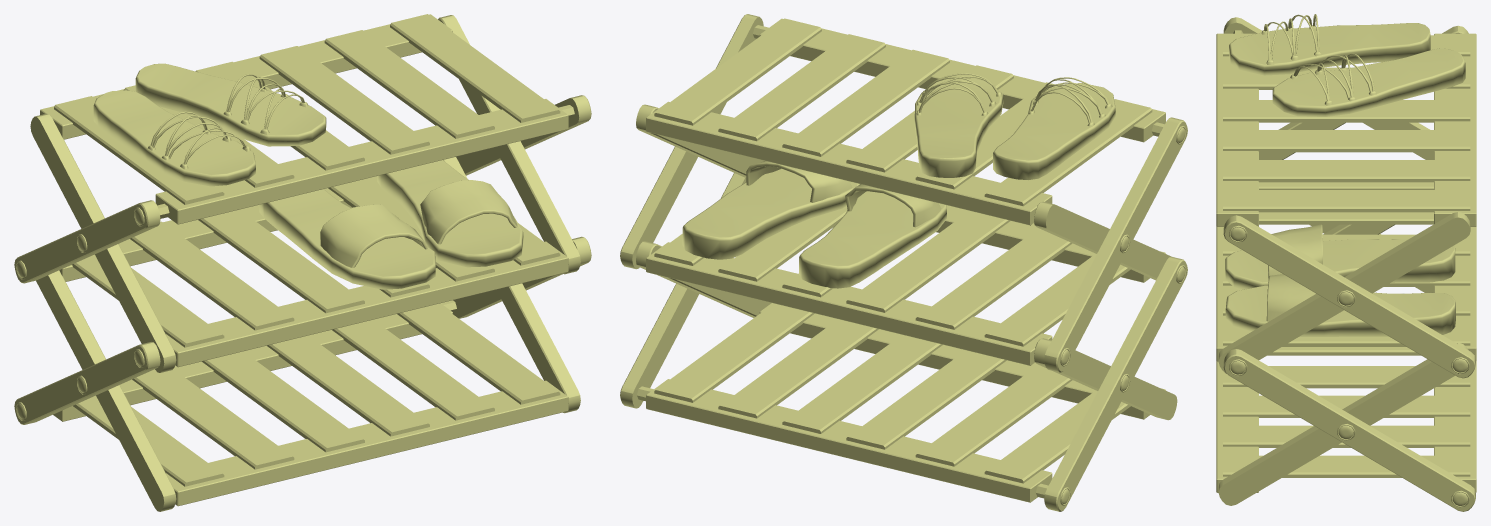
Rendered from Shoe racks and slippers.fbx.
3 renders of one model, left to right at view 1: azimuth 30°, elevation 25°; view 2: azimuth 150°, elevation 25°; view 3: azimuth 270°, elevation 25°, orthographic. The views are drawn at different scales.
Visible parts, largest first — view 1: polySurface518; view 2: polySurface518; view 3: polySurface518.
Part boxes in pixels (<box>): polySurface518: <box>14,14,591,511</box>; polySurface518: <box>620,14,1187,511</box>; polySurface518: <box>1216,14,1476,511</box>.
Size of the model in its own units: 0.9143 by 0.6803 by 0.4873.
